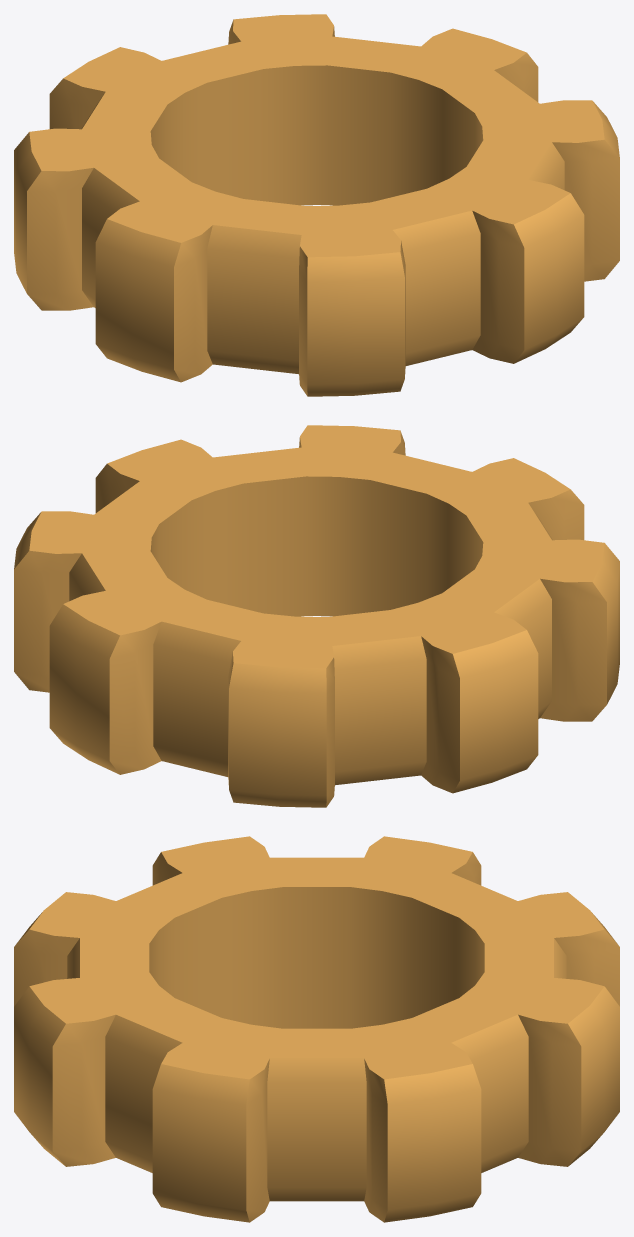
Rendered from Gear_8P_01.fbx.
3 renders of one model, top to bottom at view 1: azimuth 30°, elevation 25°; view 2: azimuth 150°, elevation 25°; view 3: azimuth 270°, elevation 25°, orthographic. The views are drawn at different scales.
Parts seen in each view (by area): view 1: Gear_8P_01; view 2: Gear_8P_01; view 3: Gear_8P_01.
Part boxes in pixels (bbox=[...]): Gear_8P_01: bbox=[14, 14, 619, 396]; Gear_8P_01: bbox=[14, 425, 619, 807]; Gear_8P_01: bbox=[14, 836, 619, 1222].
Size of the model in its own units: 384 by 100 by 384.
